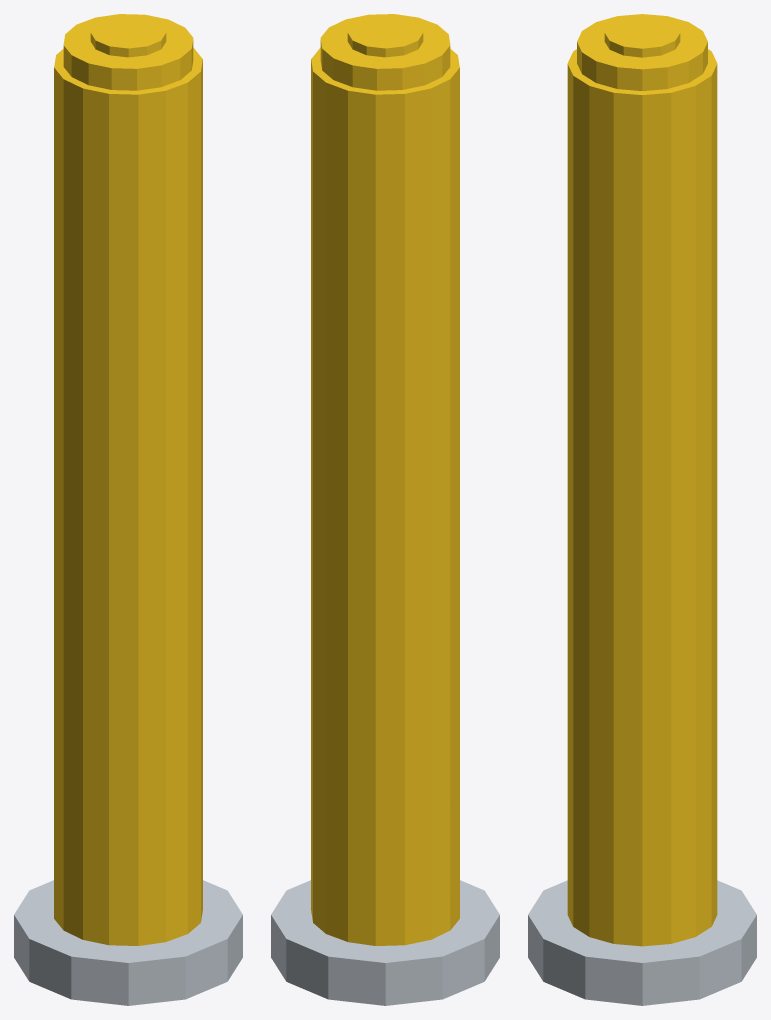
The model's file is SM_MPR3_Bollard.fbx.
3 views of the same model, side by side, from view 1: azimuth 30°, elevation 25°; view 2: azimuth 150°, elevation 25°; view 3: azimuth 270°, elevation 25° (orthographic).
Visible parts, largest first — view 1: SM_MPR3_Bollard; view 2: SM_MPR3_Bollard; view 3: SM_MPR3_Bollard.
Boxes of the visible parts, <box> form: SM_MPR3_Bollard: <box>14,14,242,1005</box>; SM_MPR3_Bollard: <box>271,14,499,1005</box>; SM_MPR3_Bollard: <box>528,14,756,1005</box>.
Size of the model in its own units: 29 by 29 by 129.
